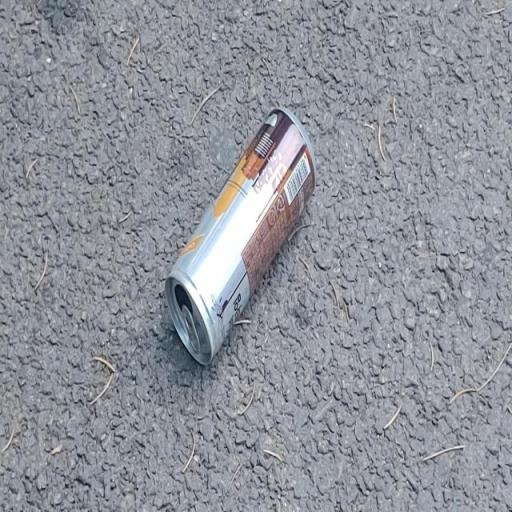metal: (148, 90, 328, 392)
